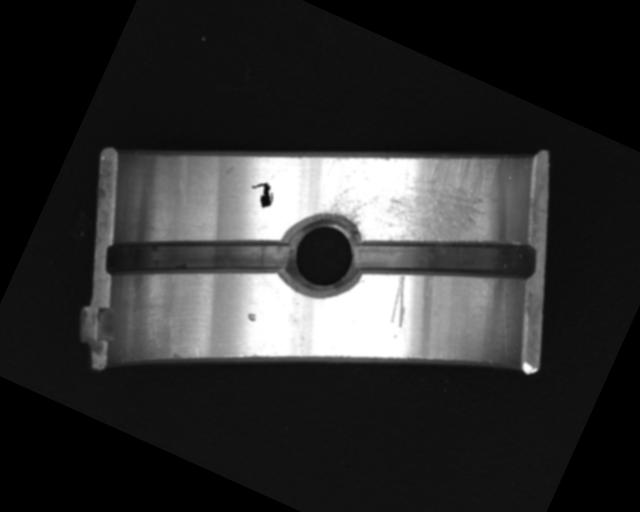blot: (244, 177, 279, 212)
bruise: (244, 310, 259, 324)
gap: (100, 176, 298, 339), (351, 183, 541, 334)
hole: (269, 198, 378, 308)
nick: (380, 272, 424, 331)
scratch: (317, 98, 508, 274)
